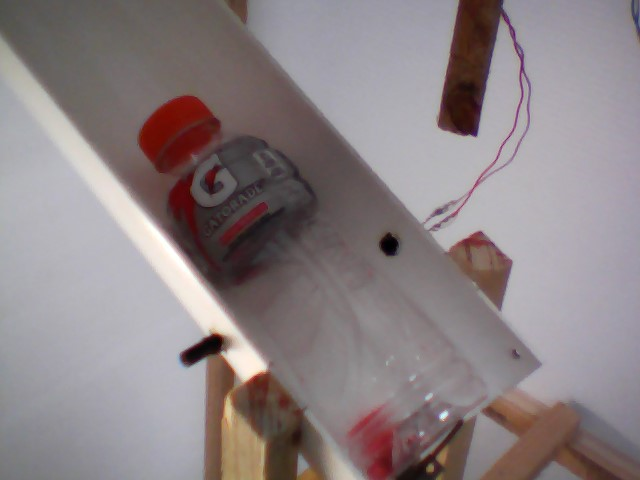plastico: (132, 91, 493, 480)
